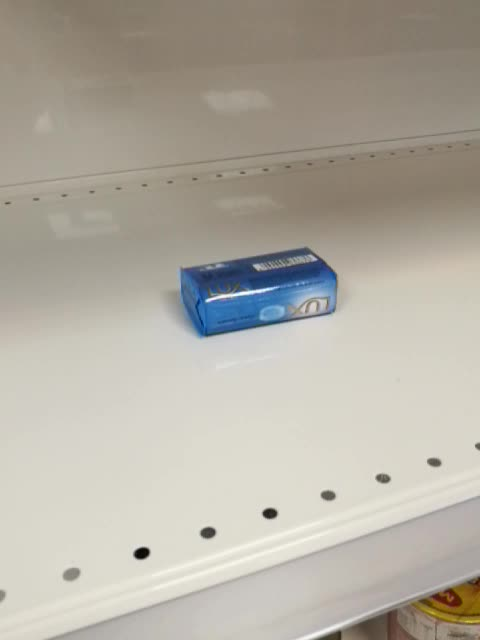soap: (180, 246, 339, 338)
